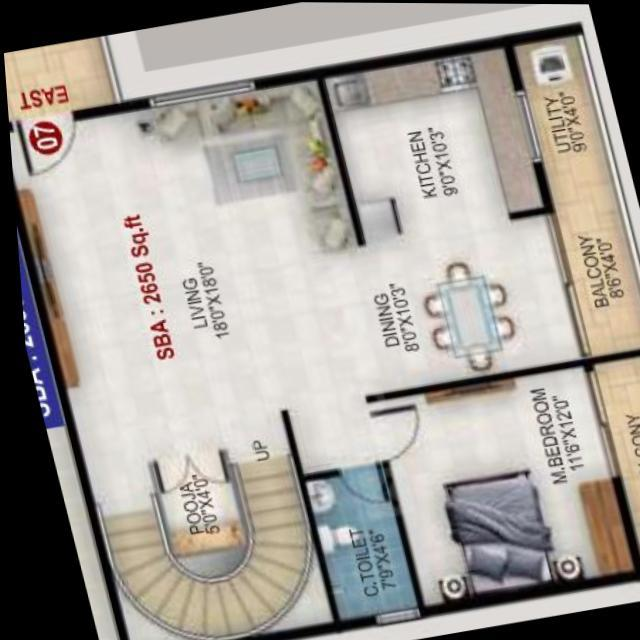Balcony-Sitout: (576, 346, 640, 578)
Bedroom with Toilet: (272, 356, 631, 633)
Dining: (406, 245, 524, 389)
Enterance-Foyer: (11, 111, 90, 200)
Kitchen: (317, 31, 551, 243)
Living: (7, 71, 388, 450)
Pooja: (140, 451, 240, 578)
Toilet: (286, 454, 421, 630)
Utility: (498, 19, 640, 366)
